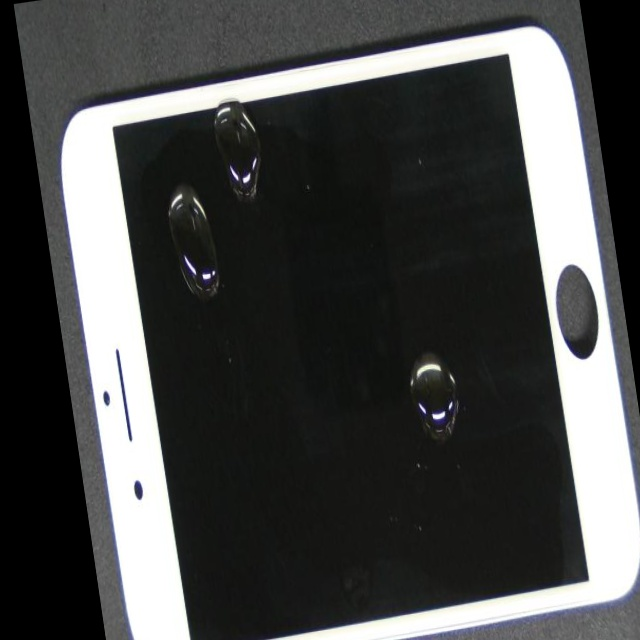oil: (248, 132, 640, 588), (138, 63, 383, 251), (126, 99, 286, 319)
